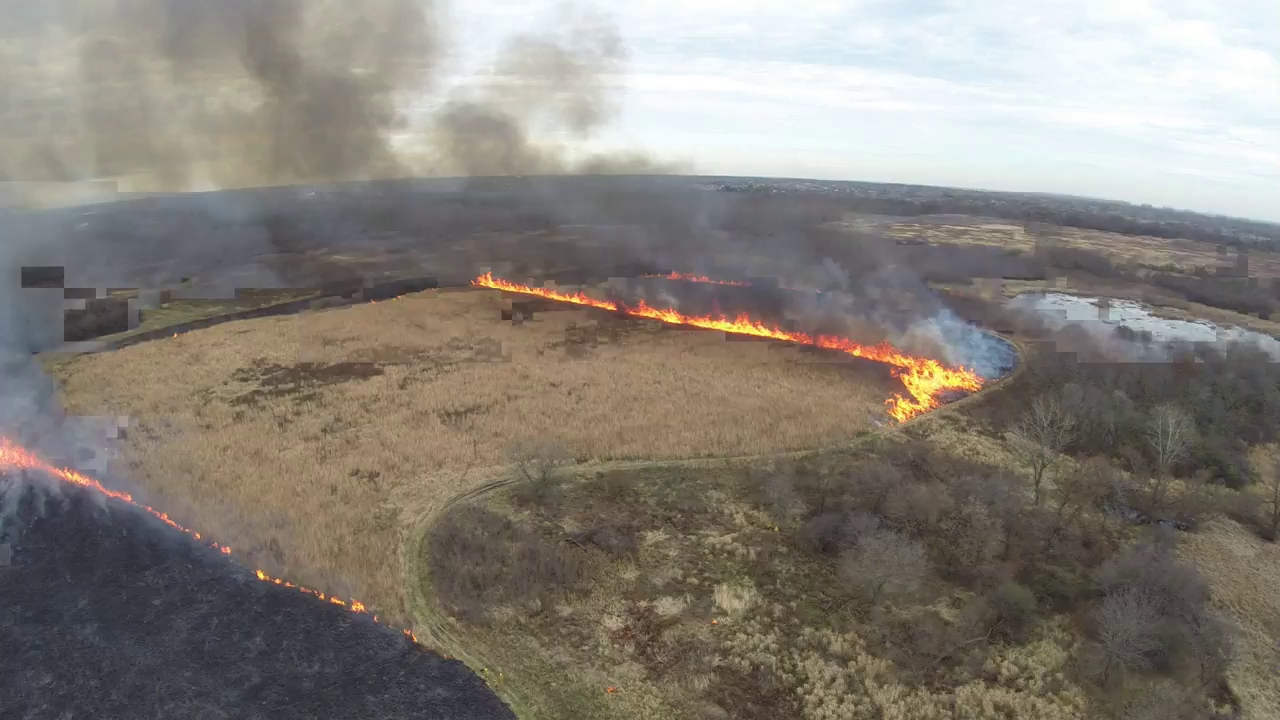forest_fire: (473, 272, 982, 420), (0, 436, 231, 553), (255, 569, 390, 625), (398, 627, 415, 642)
